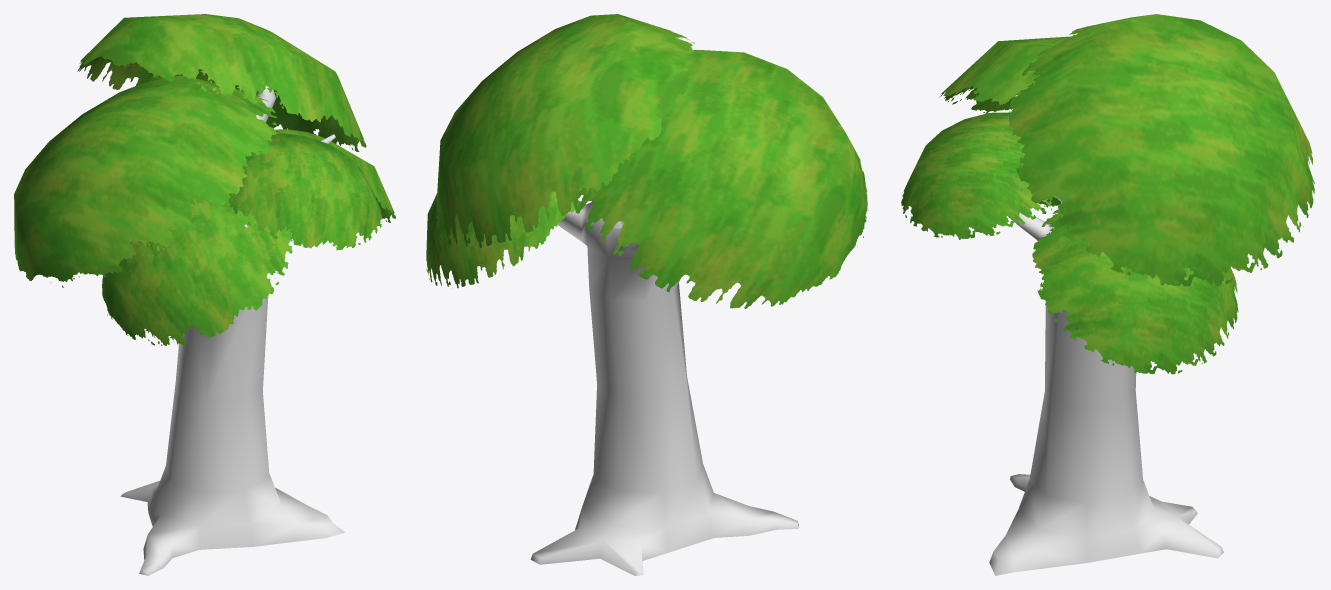
File: tree_01.gltf
The picture shows the model from 3 angles, left to right: view 1: azimuth 30°, elevation 25°; view 2: azimuth 150°, elevation 25°; view 3: azimuth 270°, elevation 25°; orthographic projection. The views are drawn at different scales.
Visible parts, largest first — view 1: Leaf.001, Trunk, Leaf.000, Leaf.004, Leaf.003, Leaf.002; view 2: Leaf.001, Leaf.000, Trunk, Leaf.002; view 3: Leaf.000, Trunk, Leaf.002, Leaf.003, Leaf.001.
Boxes of the visible parts, x1=… form: Leaf.001: x1=14, y1=75, x2=276, y2=287; Trunk: x1=120, y1=85, x2=345, y2=575; Leaf.000: x1=77, y1=14, x2=366, y2=151; Leaf.004: x1=102, y1=197, x2=292, y2=345; Leaf.003: x1=228, y1=133, x2=382, y2=250; Leaf.002: x1=275, y1=129, x2=395, y2=222; Leaf.001: x1=573, y1=50, x2=868, y2=308; Leaf.000: x1=436, y1=14, x2=701, y2=248; Trunk: x1=530, y1=200, x2=798, y2=575; Leaf.002: x1=426, y1=188, x2=581, y2=288; Leaf.000: x1=1008, y1=14, x2=1314, y2=286; Trunk: x1=989, y1=95, x2=1223, y2=575; Leaf.002: x1=1032, y1=209, x2=1238, y2=374; Leaf.003: x1=901, y1=112, x2=1059, y2=239; Leaf.001: x1=939, y1=36, x2=1070, y2=113.
Size of the model in its own units: 3.96 by 4.97 by 3.67.
1 material, 1 textured.
